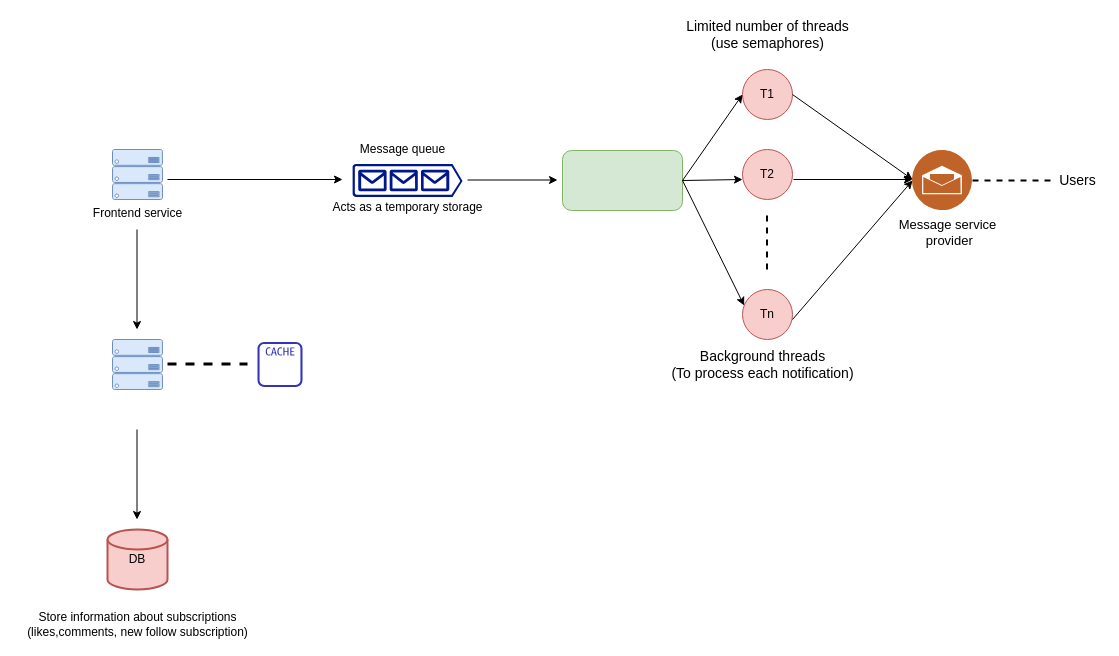
This 1119x656 diagram has some shape labels left out. Here are the shapes that lost their labels. From the top down, the centre of each, then its label:
At pixel 622 180: "Sender service".
At pixel 137 364: "Token store service (Metadata)".
